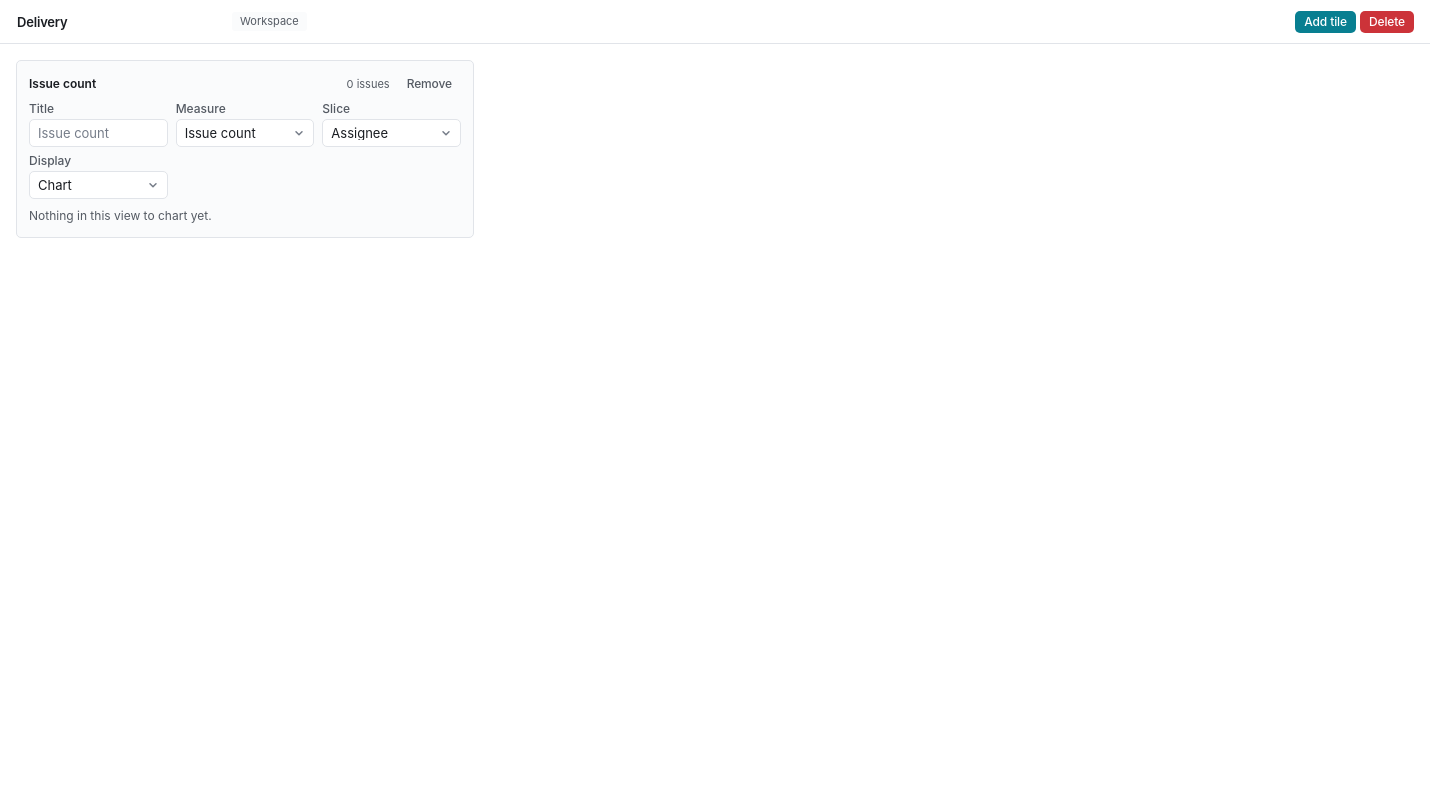
Test: DashboardDetail › asks before deleting, and sends nothing until the question is answered
The image size is (1440, 810).
Click the button "Delete". click: (1387, 22)
box: [1360, 10, 1414, 32]
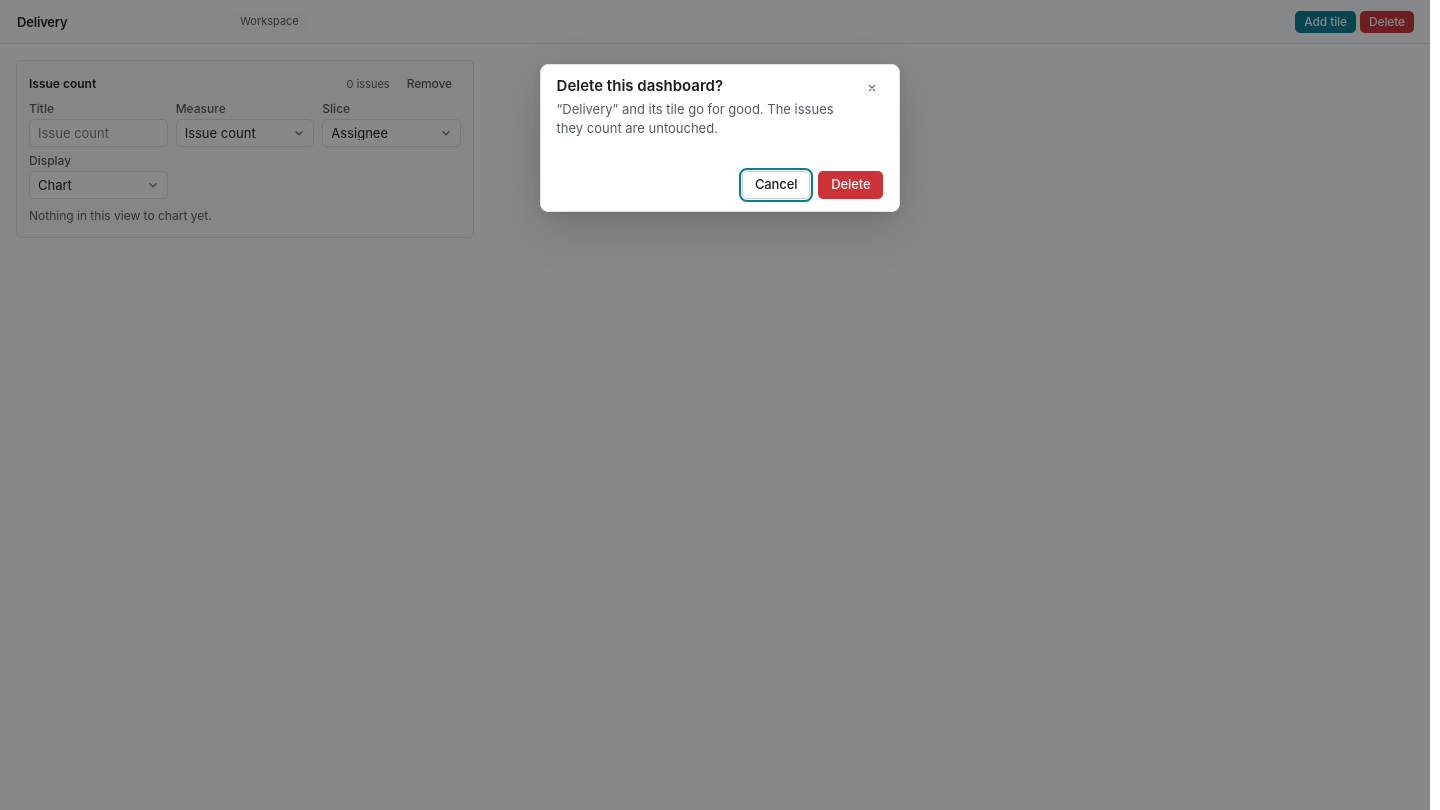
Check: the text "go for good" is shown, box [557, 101, 834, 136]
